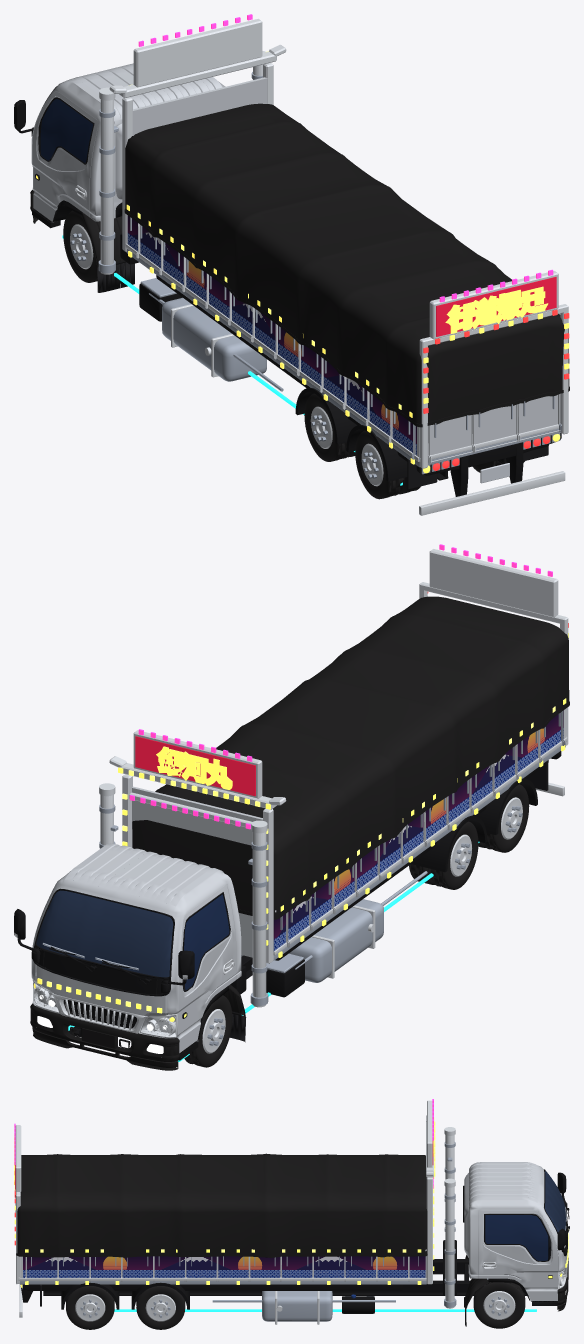
Rendered from dekotora_truck_graneleira_jac.glb.
3 views of the same model, one above another, from view 1: azimuth 30°, elevation 25°; view 2: azimuth 150°, elevation 25°; view 3: azimuth 270°, elevation 25° (orthographic). The views are drawn at different scales.
Parts seen in each view (by area): view 1: truck_plastic_trim, truck_chrome, truck_paint_white_panel, truck_steel, truck_mural, truck_plastic_black, truck_lamp_amber, truck_glass, wheel_r_L_1.5_1.06, wheel_r_L_3.0_1.06, wheel_f_L, truck_andon_panel (+3 smaller); view 2: truck_plastic_trim, truck_chrome, truck_paint_white_panel, truck_plastic_black, truck_glass_wind, truck_steel, truck_mural, truck_lamp_amber, truck_andon_panel, truck_glass, wheel_f_L, wheel_r_L_3.0_1.06 (+4 smaller); view 3: truck_plastic_trim, truck_paint_white_panel, truck_mural, truck_plastic_black, truck_chrome, truck_steel, truck_glass, wheel_f_R, wheel_r_R_3.0_1.06, wheel_r_R_1.5_1.06, truck_glass_wind, truck_lamp_amber (+2 smaller).
Part boxes in pixels (x1,y1,x2,y2): truck_plastic_trim: (30,103,569,427); truck_chrome: (32,18,568,515); truck_paint_white_panel: (31,63,560,455); truck_steel: (98,72,561,474); truck_mural: (127,215,419,460); truck_plastic_black: (14,86,561,496); truck_lamp_amber: (36,51,569,473); truck_glass: (40,99,92,162); wheel_r_L_1.5_1.06: (355,430,404,499); wheel_r_L_3.0_1.06: (304,393,351,461); wheel_f_L: (63,210,97,282); truck_andon_panel: (436,277,556,336); truck_plastic_trim: (30,596,569,1070); truck_chrome: (15,549,568,1038); truck_paint_white_panel: (31,786,262,1052); truck_plastic_black: (14,751,561,1060); truck_glass_wind: (36,890,173,977); truck_steel: (42,711,565,1005); truck_mural: (273,710,563,951); truck_lamp_amber: (33,633,568,1021); truck_andon_panel: (135,736,255,796); truck_glass: (184,894,229,990); wheel_f_L: (184,995,232,1067); wheel_r_L_3.0_1.06: (428,821,478,889); truck_plastic_trim: (15,1153,568,1311); truck_paint_white_panel: (425,1162,567,1300); truck_mural: (23,1256,425,1277); truck_plastic_black: (21,1169,569,1313); truck_chrome: (15,1100,567,1324); truck_steel: (20,1142,566,1321); truck_glass: (485,1215,548,1260); wheel_f_R: (473,1282,525,1328); wheel_r_R_3.0_1.06: (136,1286,185,1329); wheel_r_R_1.5_1.06: (66,1286,114,1329); truck_glass_wind: (545,1171,565,1232); truck_lamp_amber: (14,1117,568,1287).
Bounding box in the file's own units: 3.05 × 4.42 × 11.82.
Materials: 21 (6 with a texture image).
